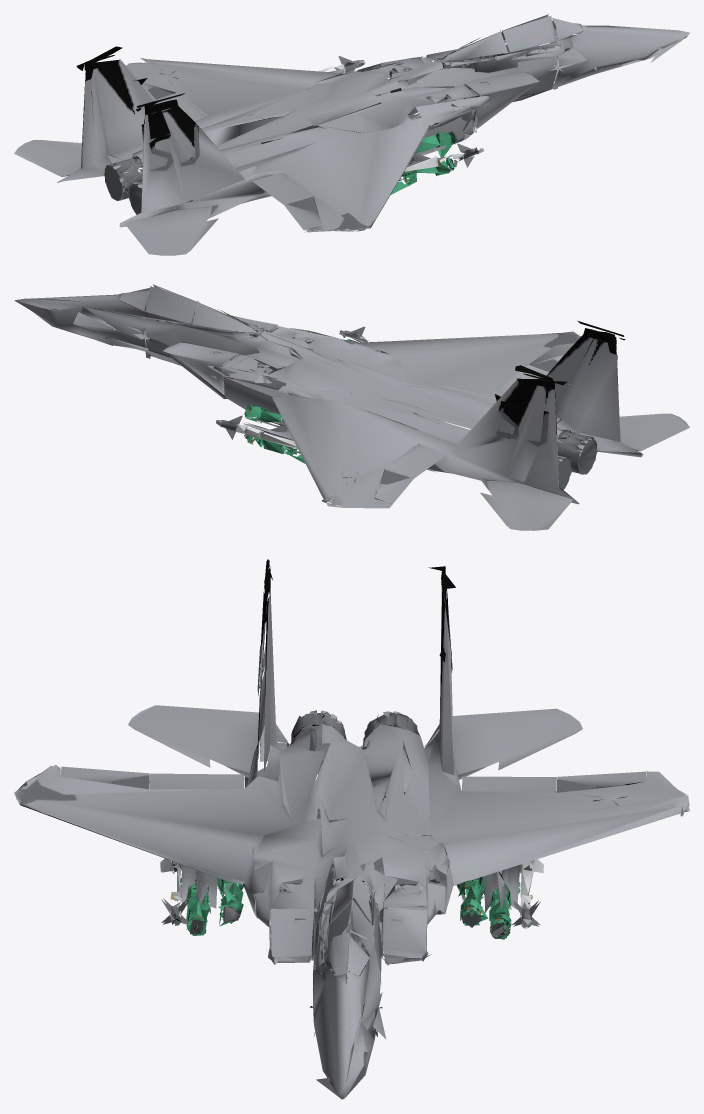
The picture shows the model from 3 angles, top to bottom: view 1: azimuth 30°, elevation 25°; view 2: azimuth 150°, elevation 25°; view 3: azimuth 270°, elevation 25°; orthographic projection. The views are drawn at different scales.
Visible parts, largest first — view 1: g_f15ex_hull; view 2: g_f15ex_hull; view 3: g_f15ex_hull.
Part boxes in pixels (x1,y1,x2,y2): g_f15ex_hull: [14, 14, 689, 255]; g_f15ex_hull: [14, 284, 689, 530]; g_f15ex_hull: [14, 559, 689, 1099].
Size of the model in its own units: 19.42 by 4.28 by 12.87.
1 material, 1 textured.
